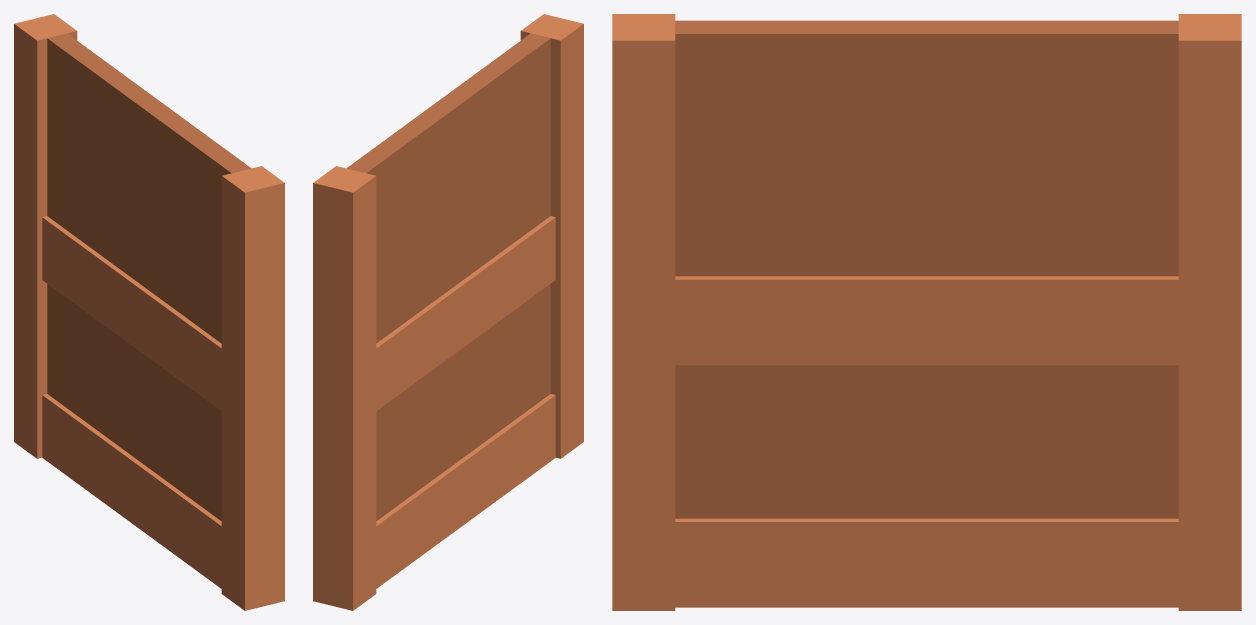
File: wallWoodDetailHorizontal.fbx
The picture shows the model from 3 angles, left to right: view 1: azimuth 30°, elevation 25°; view 2: azimuth 150°, elevation 25°; view 3: azimuth 270°, elevation 25°; orthographic projection. The views are drawn at different scales.
Parts seen in each view (by area): view 1: wallWoodDetailHorizontal; view 2: wallWoodDetailHorizontal; view 3: wallWoodDetailHorizontal.
Boxes of the visible parts, left/top/right/bottom form: wallWoodDetailHorizontal: left=14, top=14, right=284, bottom=610; wallWoodDetailHorizontal: left=313, top=14, right=583, bottom=610; wallWoodDetailHorizontal: left=612, top=14, right=1241, bottom=610.
Size of the model in its own units: 1 by 10 by 10.
